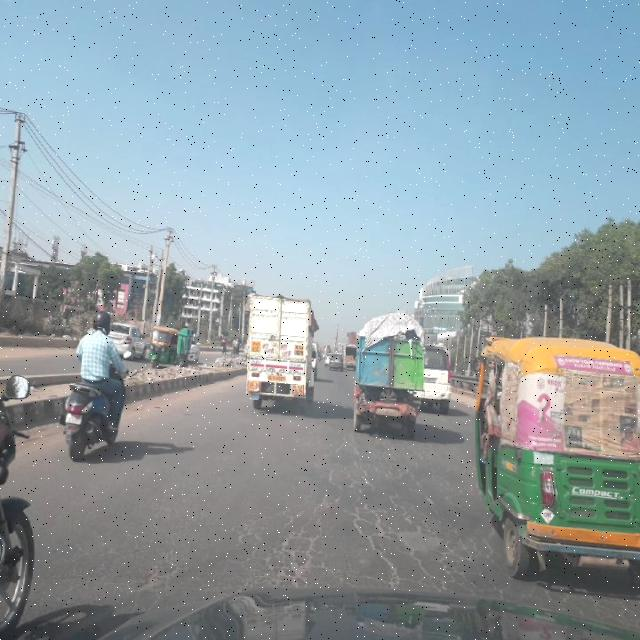D20: (111, 431, 472, 600)
